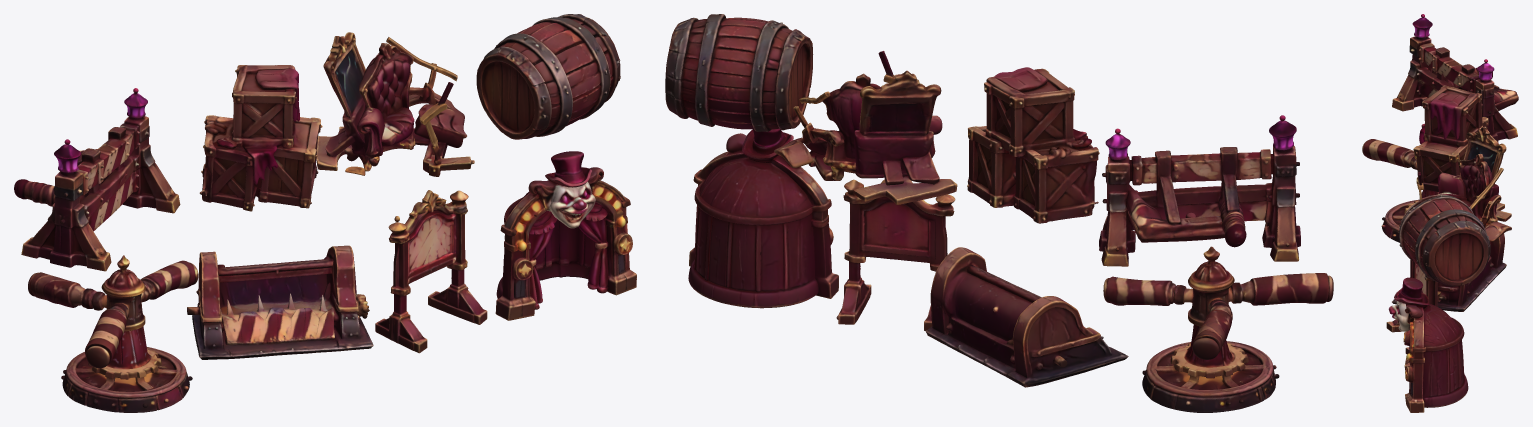
The model's file is escape-obstacles.glb.
3 renders of one model, left to right at view 1: azimuth 30°, elevation 25°; view 2: azimuth 150°, elevation 25°; view 3: azimuth 270°, elevation 25°, orthographic. The views are drawn at different scales.
Visible parts, largest first — view 1: model; view 2: model; view 3: model.
Part boxes in pixels (x1,y1,x2,y2): model: [14, 14, 636, 412]; model: [665, 14, 1333, 412]; model: [1362, 14, 1518, 412].
Size of the model in its own units: 1.9 by 0.8545 by 0.6019.
1 material, 1 textured.
